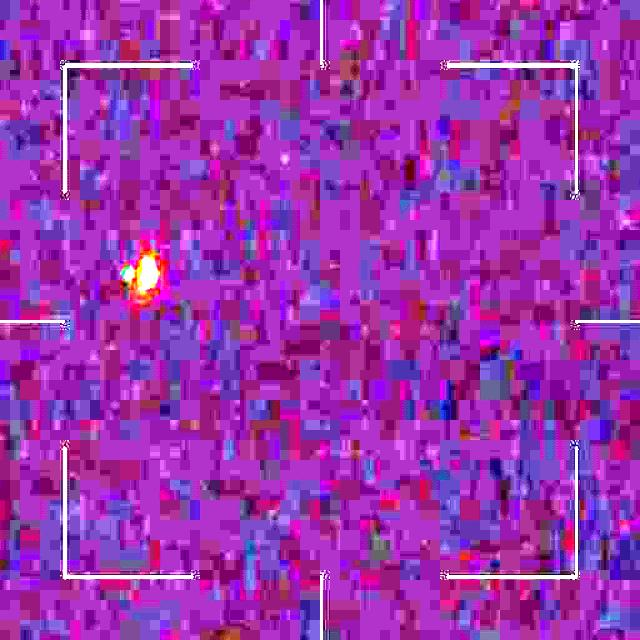bird: (125, 255, 159, 308)
